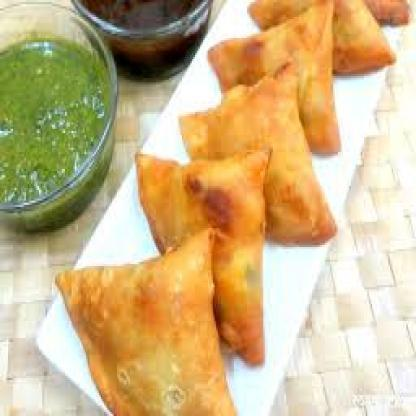samosa: (55, 229, 236, 416), (135, 147, 272, 368), (179, 61, 338, 247), (206, 0, 340, 158), (248, 0, 397, 76)
